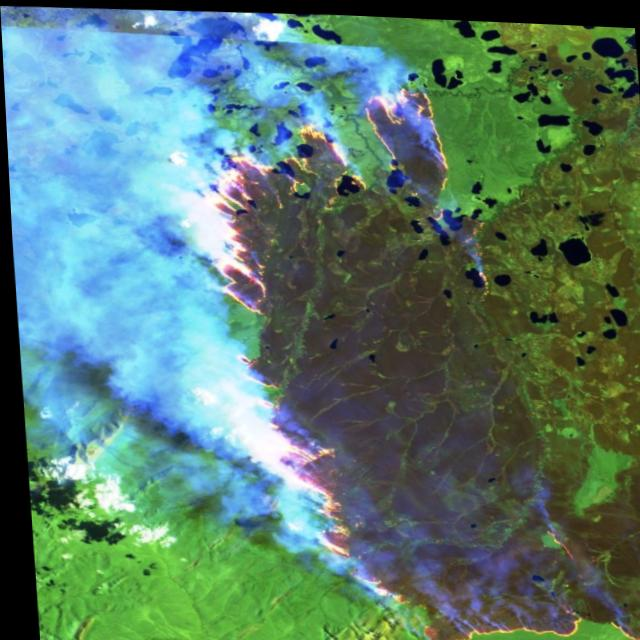fire: (147, 50, 640, 640)
